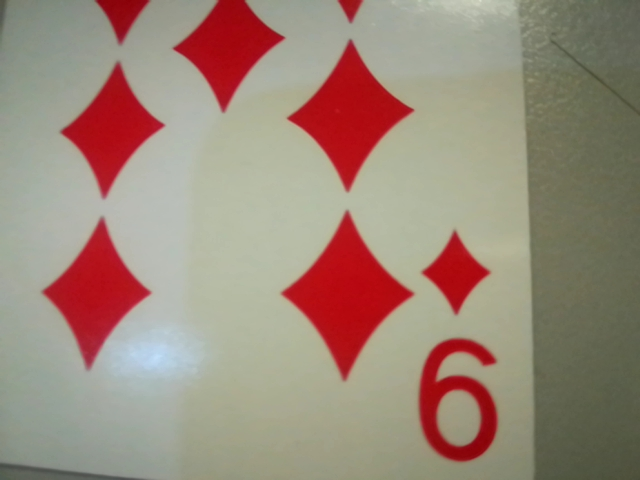fk 9: (406, 225, 527, 477)
